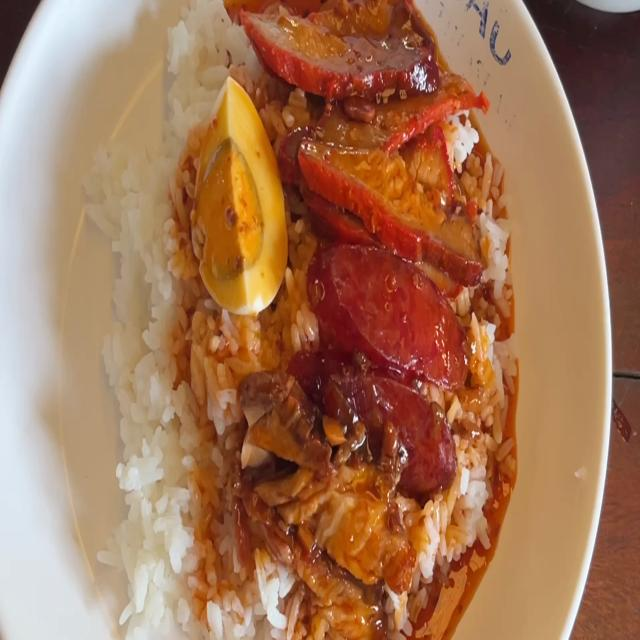red_pork_and_crispy_pork: (203, 104, 276, 296)
stir_fried_basil: (314, 247, 458, 464)
